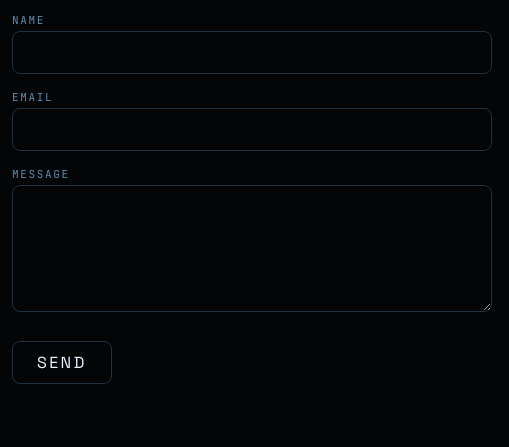
Test: ContactForm › maps a server 400 to form_submit_fail {stage: validation}
This screenshot has width=509, height=447.
Type "Jane Doe" into the field labelled "Name".
click(252, 52); type("Jane Doe")  # box [12, 31, 492, 74]
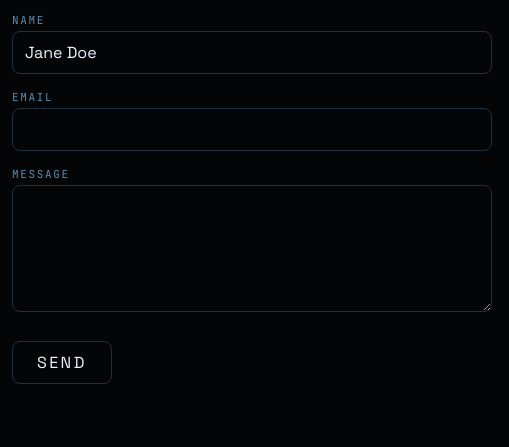
Type "jane@agency.co" into the field labelled "Email".
click(252, 130); type("jane@agency.co")  # box [12, 108, 492, 151]
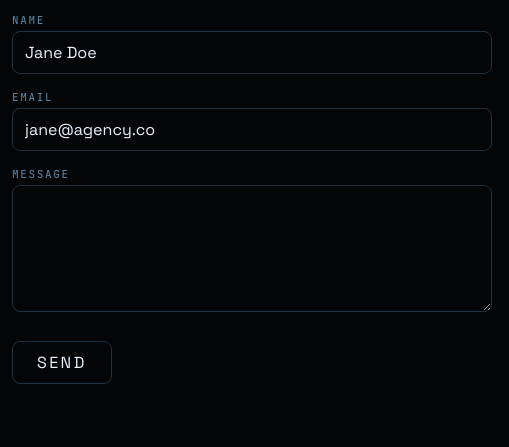
Type "We need a rescue for a client site." into the text box labelled "Message".
click(252, 248); type("We need a rescue for a client site.")  # box [12, 185, 492, 312]
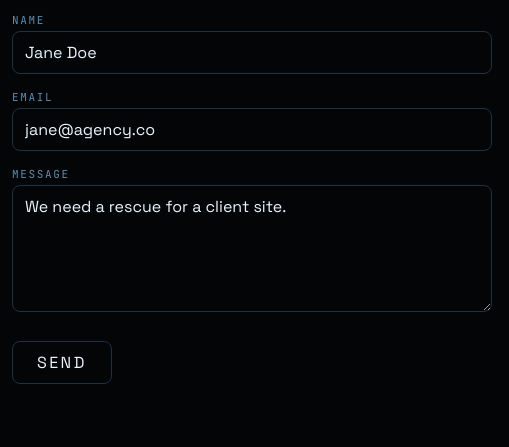
Click the button "Send".
click(62, 362)  # box [12, 341, 112, 384]
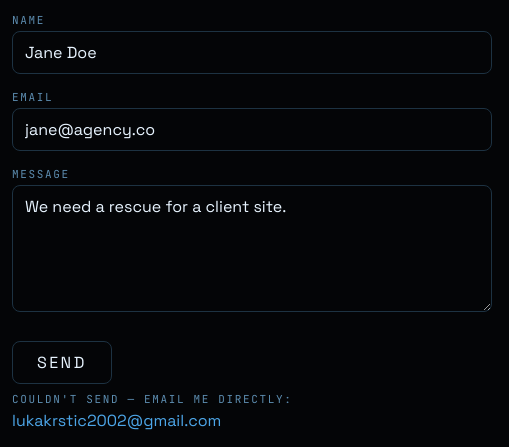
Check: the message reads "Couldn't send — email me directly:", box [12, 392, 292, 406]
